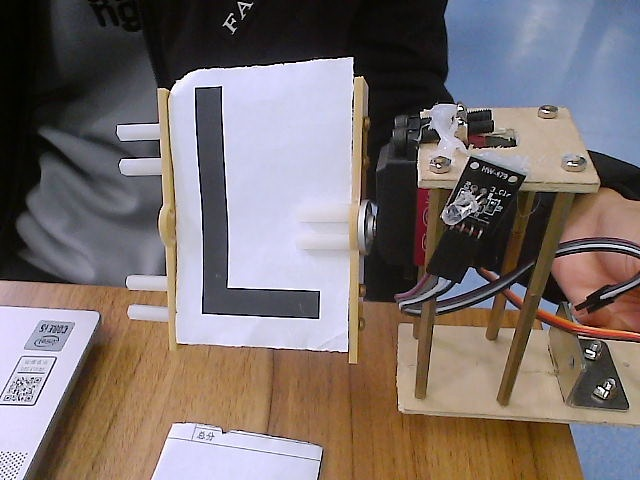L: (83, 33, 428, 391)
